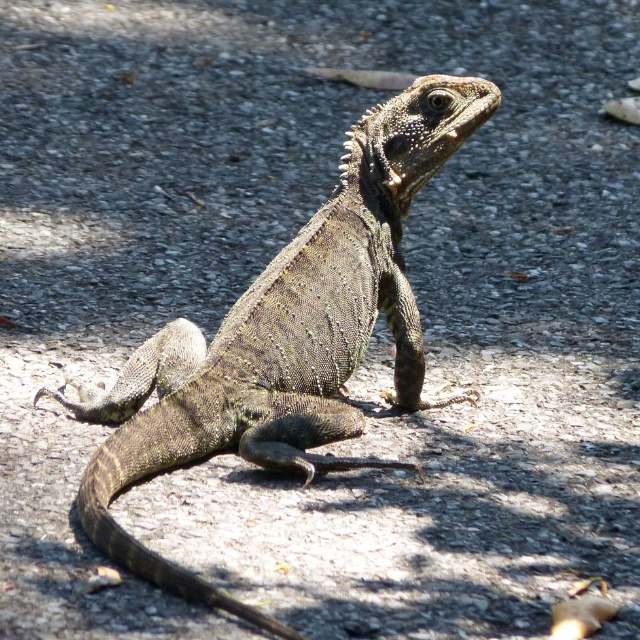Lizard: (57, 53, 499, 624)
